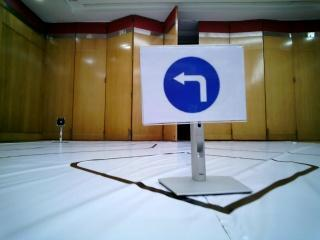left: (145, 49, 242, 122)
